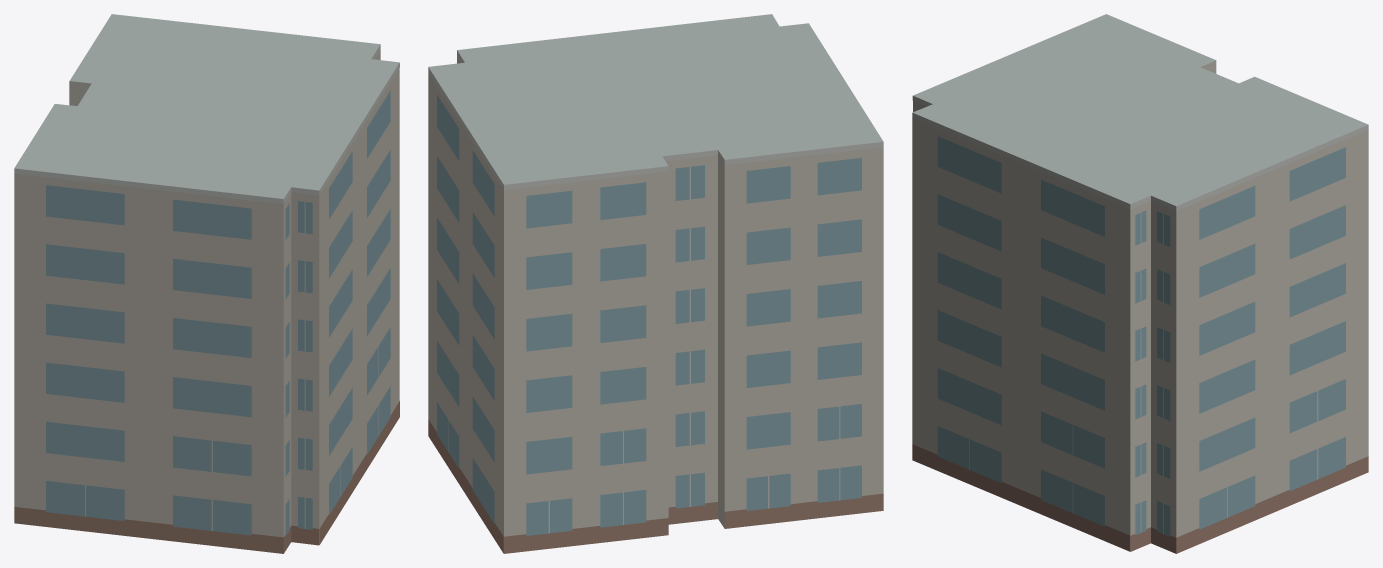
The model's file is survey-upis-32691507.glb.
3 views of the same model, side by side, from view 1: azimuth 30°, elevation 25°; view 2: azimuth 150°, elevation 25°; view 3: azimuth 270°, elevation 25° (orthographic). The views are drawn at different scales.
Visible parts, largest first — view 1: survey-upis-32691507.tmp; view 2: survey-upis-32691507.tmp; view 3: survey-upis-32691507.tmp.
Part boxes in pixels (box(x1,y1,x2,y2)): survey-upis-32691507.tmp: box(14, 14, 399, 553); survey-upis-32691507.tmp: box(428, 14, 883, 553); survey-upis-32691507.tmp: box(912, 14, 1368, 553).
Size of the model in its own units: 19.93 by 16.8 by 19.99.
